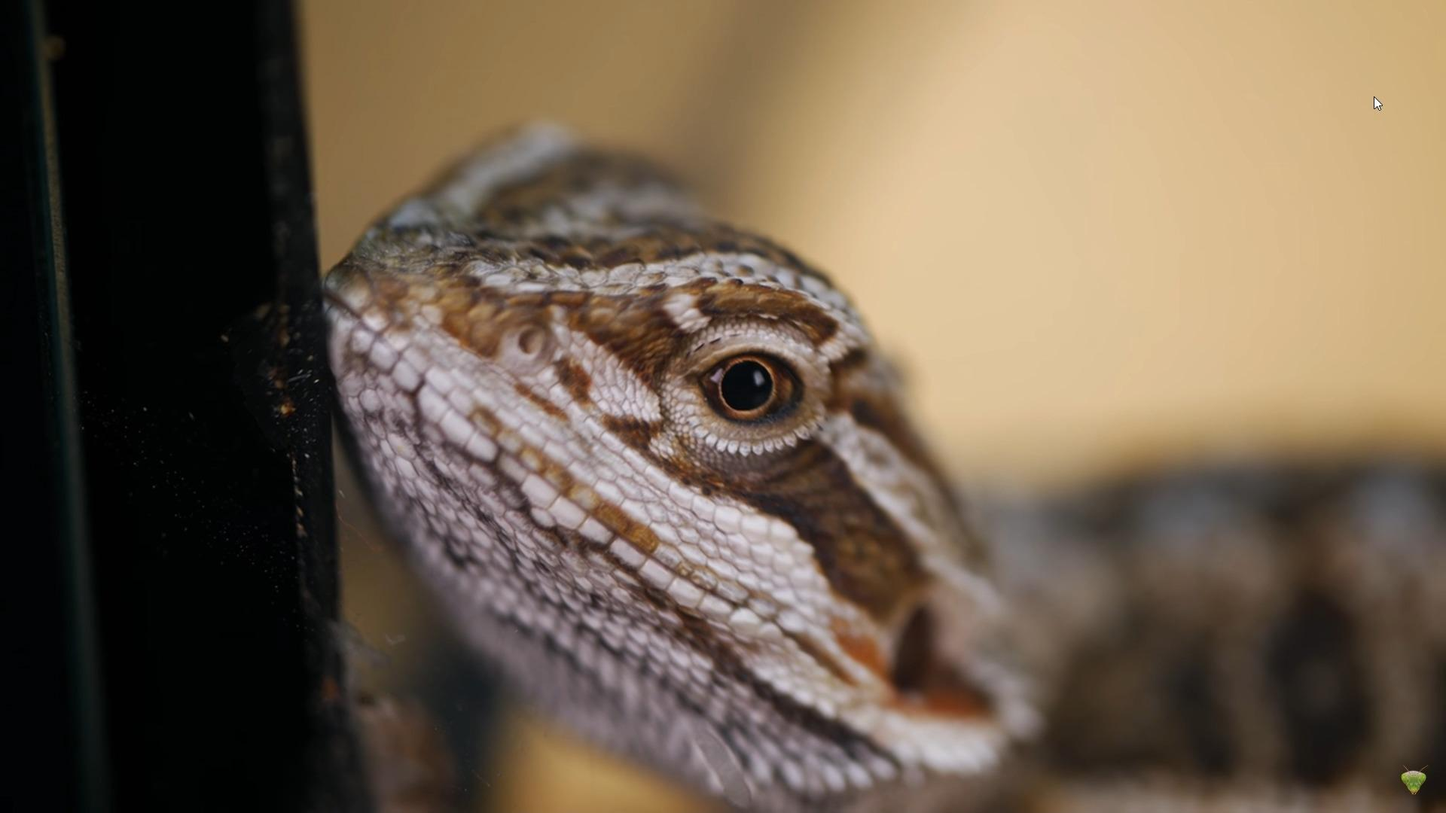lizard: (295, 112, 1076, 813)
